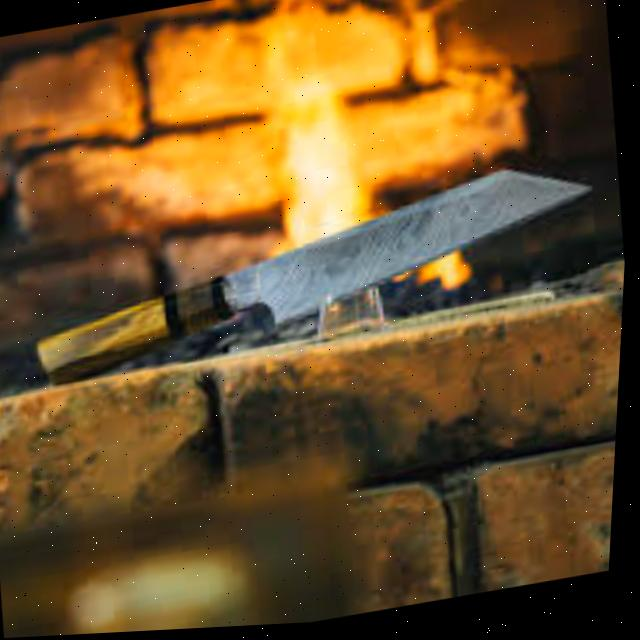Knife: (25, 156, 608, 387)
